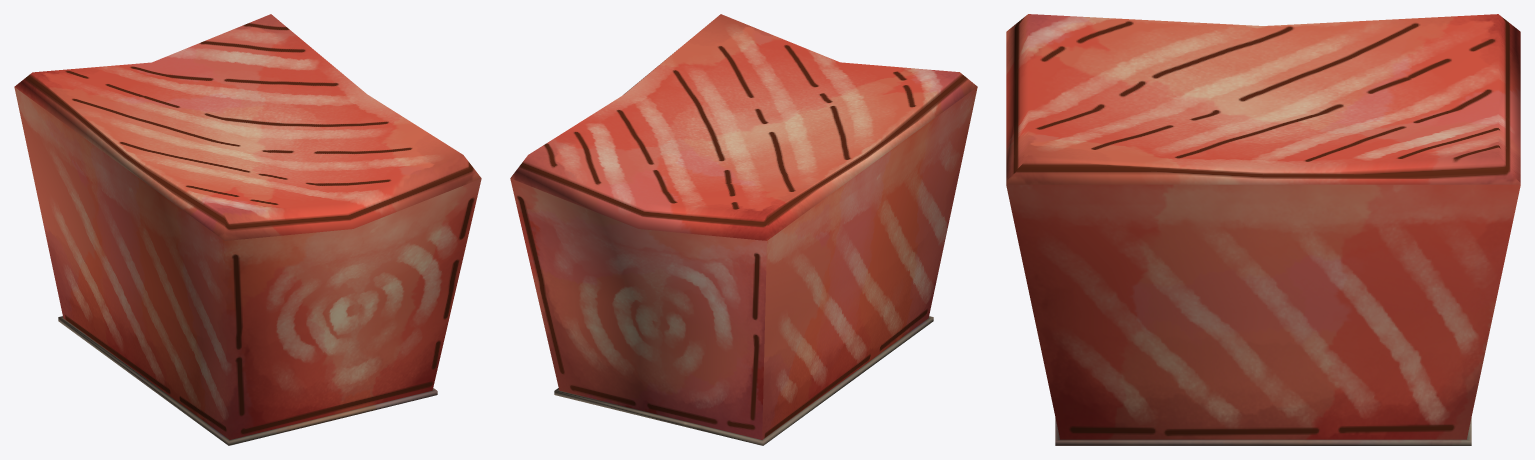
Rendered from tuna.fbx.
The picture shows the model from 3 angles, left to right: view 1: azimuth 30°, elevation 25°; view 2: azimuth 150°, elevation 25°; view 3: azimuth 270°, elevation 25°; orthographic projection. The views are drawn at different scales.
Visible parts, largest first — view 1: tuna; view 2: tuna; view 3: tuna.
Boxes of the visible parts, x1,y1,x2,y2 form: tuna: (14,14,481,445); tuna: (510,14,977,445); tuna: (1006,14,1520,445).
Size of the model in its own units: 29.82 by 27.14 by 42.4.
